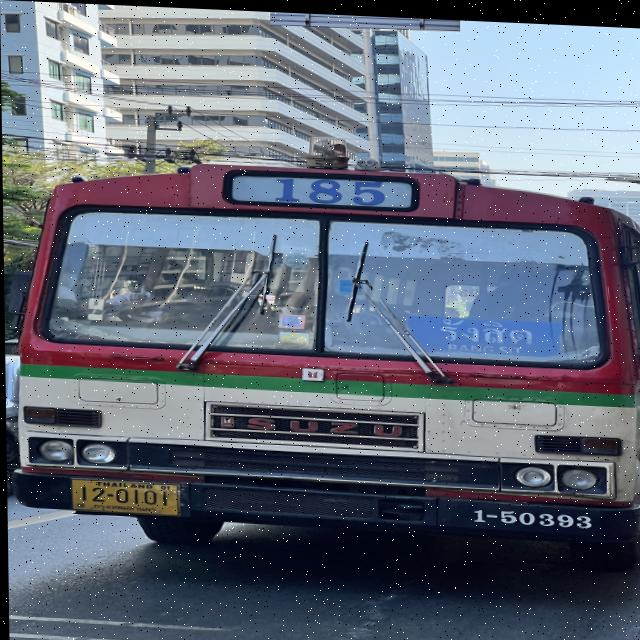BMTA-bus: (14, 162, 640, 567)
Bus Line Number: (225, 168, 413, 209)
Bus Side Number: (455, 497, 598, 527)
Destination Sign: (403, 311, 563, 356)
